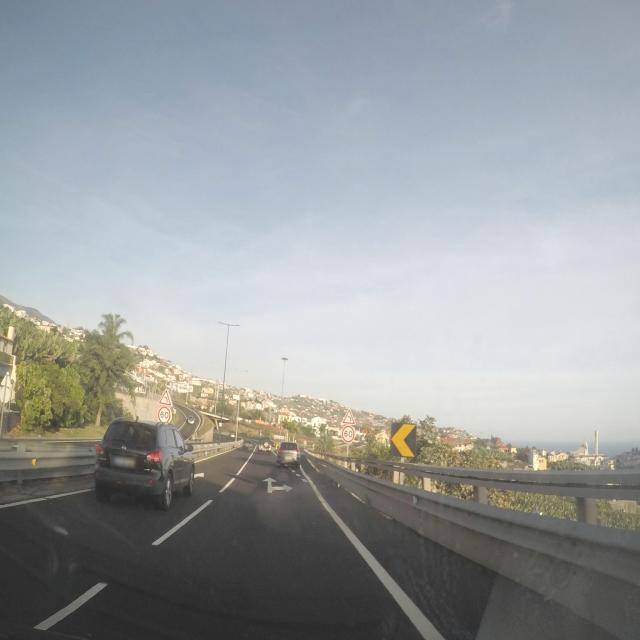car: (94, 418, 195, 509), (276, 441, 301, 468), (260, 440, 272, 452)
